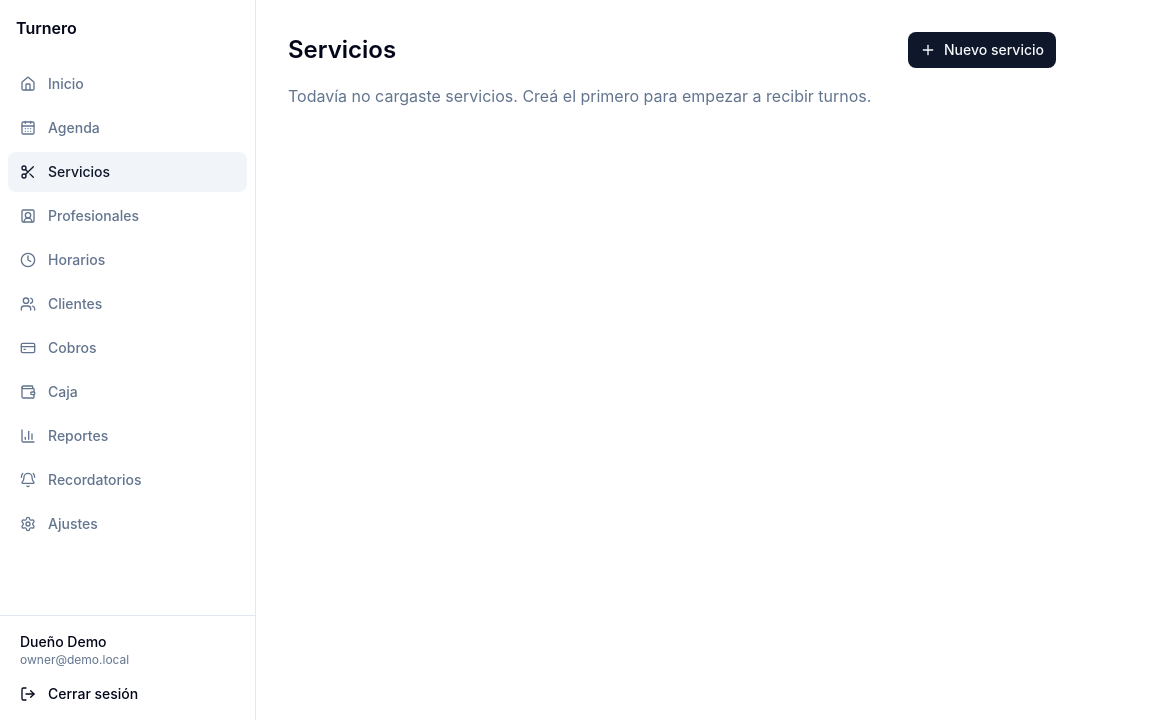
services page › validates the form in Spanish
This screenshot has width=1152, height=720.
Step 1. Click the button "Nuevo servicio" → {"x": 982, "y": 50}, box [908,32,1056,68]
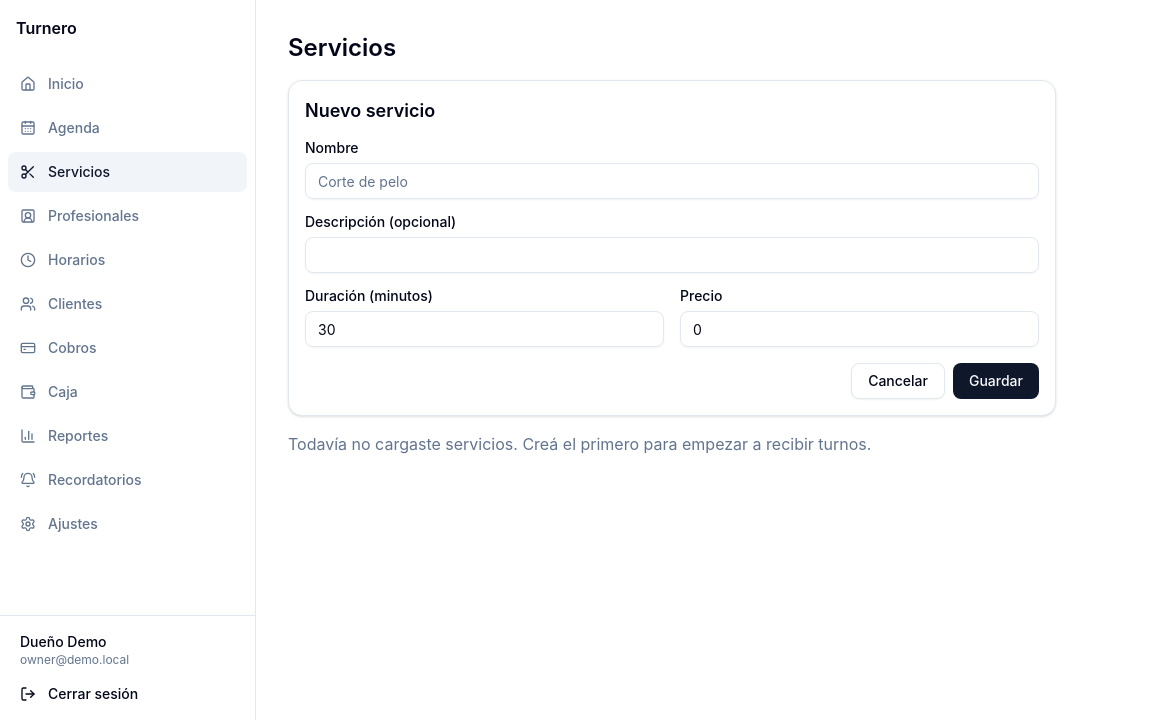
Step 2. Click the button "Guardar" → {"x": 996, "y": 381}, box [953,363,1039,399]
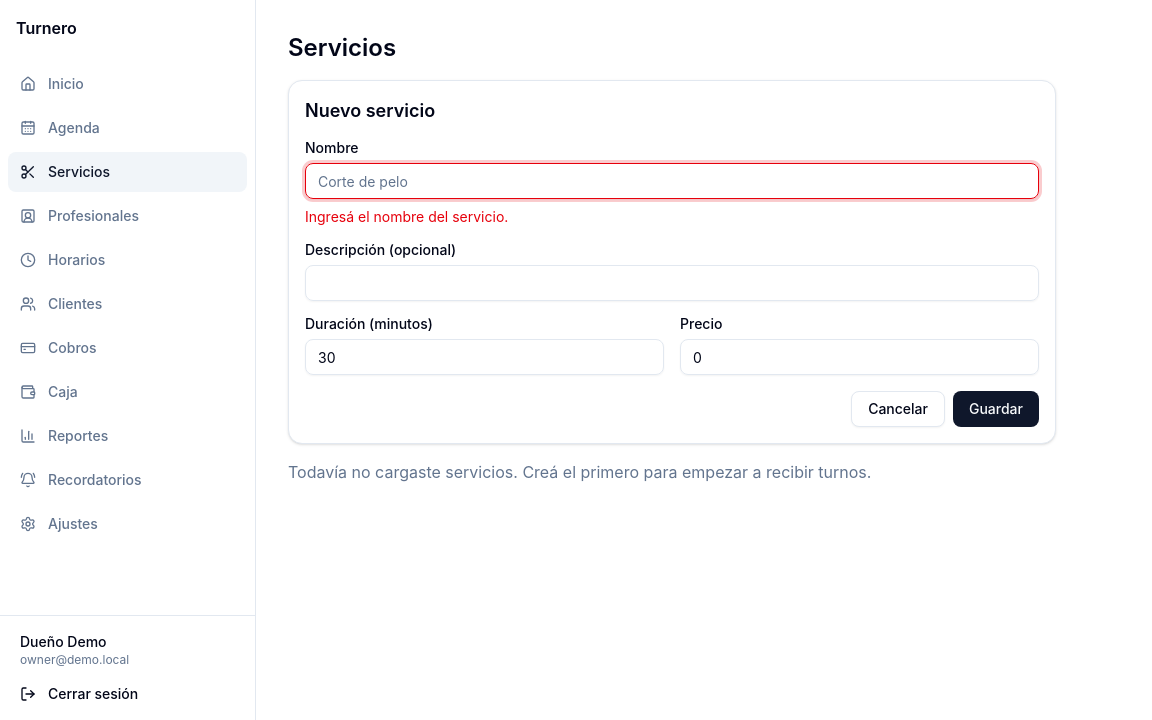
Result: the text "Ingresá el nombre del servicio." is shown at [305,208,508,225]
